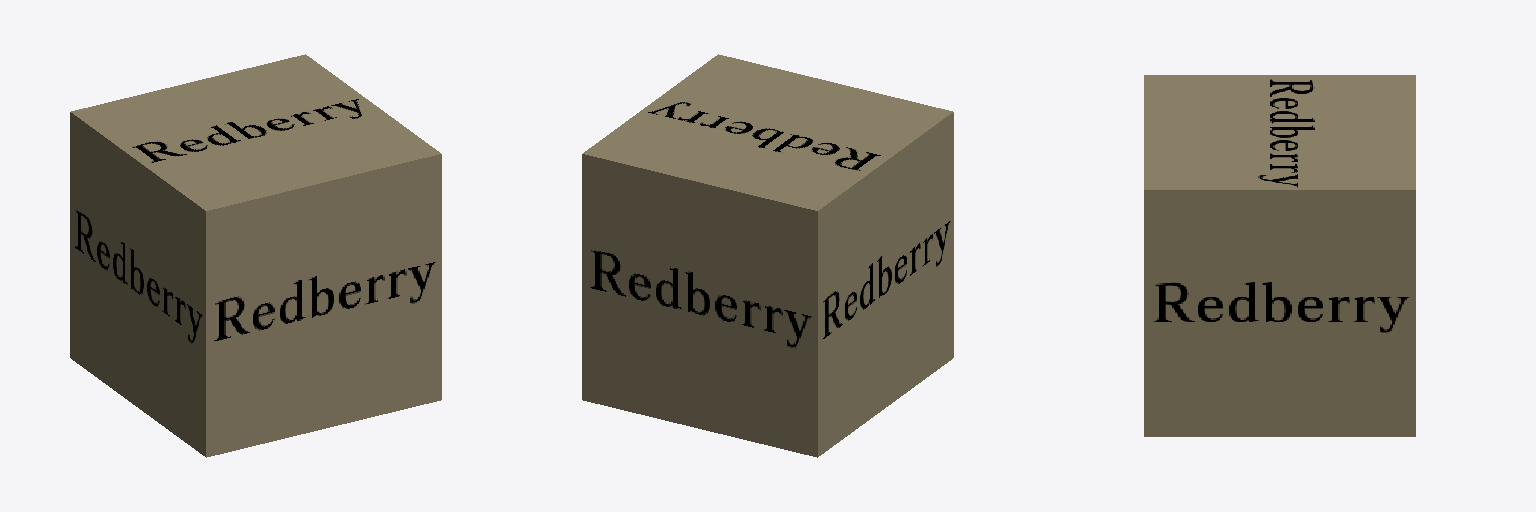
3 views of the same model, side by side, from view 1: azimuth 30°, elevation 25°; view 2: azimuth 150°, elevation 25°; view 3: azimuth 270°, elevation 25° (orthographic).
Parts seen in each view (by area): view 1: Cube; view 2: Cube; view 3: Cube.
Boxes of the visible parts, box(x1,y1,x2,y2) form: Cube: box(70, 54, 441, 457); Cube: box(582, 54, 953, 457); Cube: box(1144, 75, 1415, 436).
Bounding box in the file's own units: 0.6 × 0.6 × 0.6.
1 materials, 1 textured.